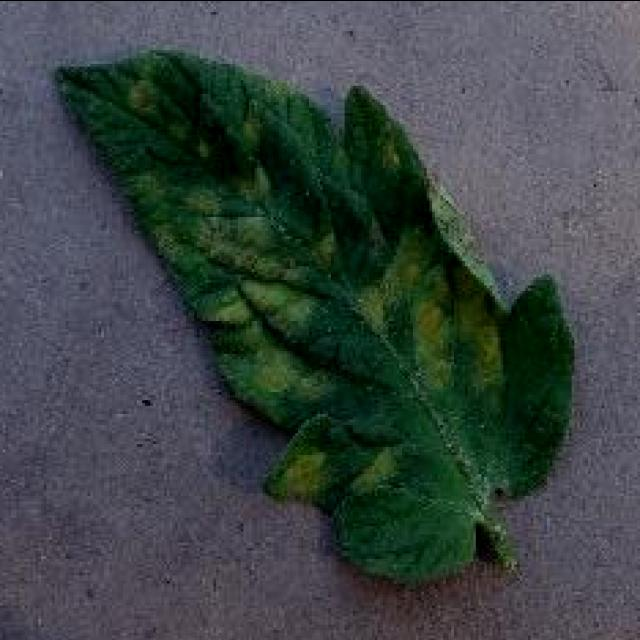leaf mold: (55, 46, 575, 583)
